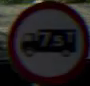Heavy Vehicles: (12, 1, 79, 73)
